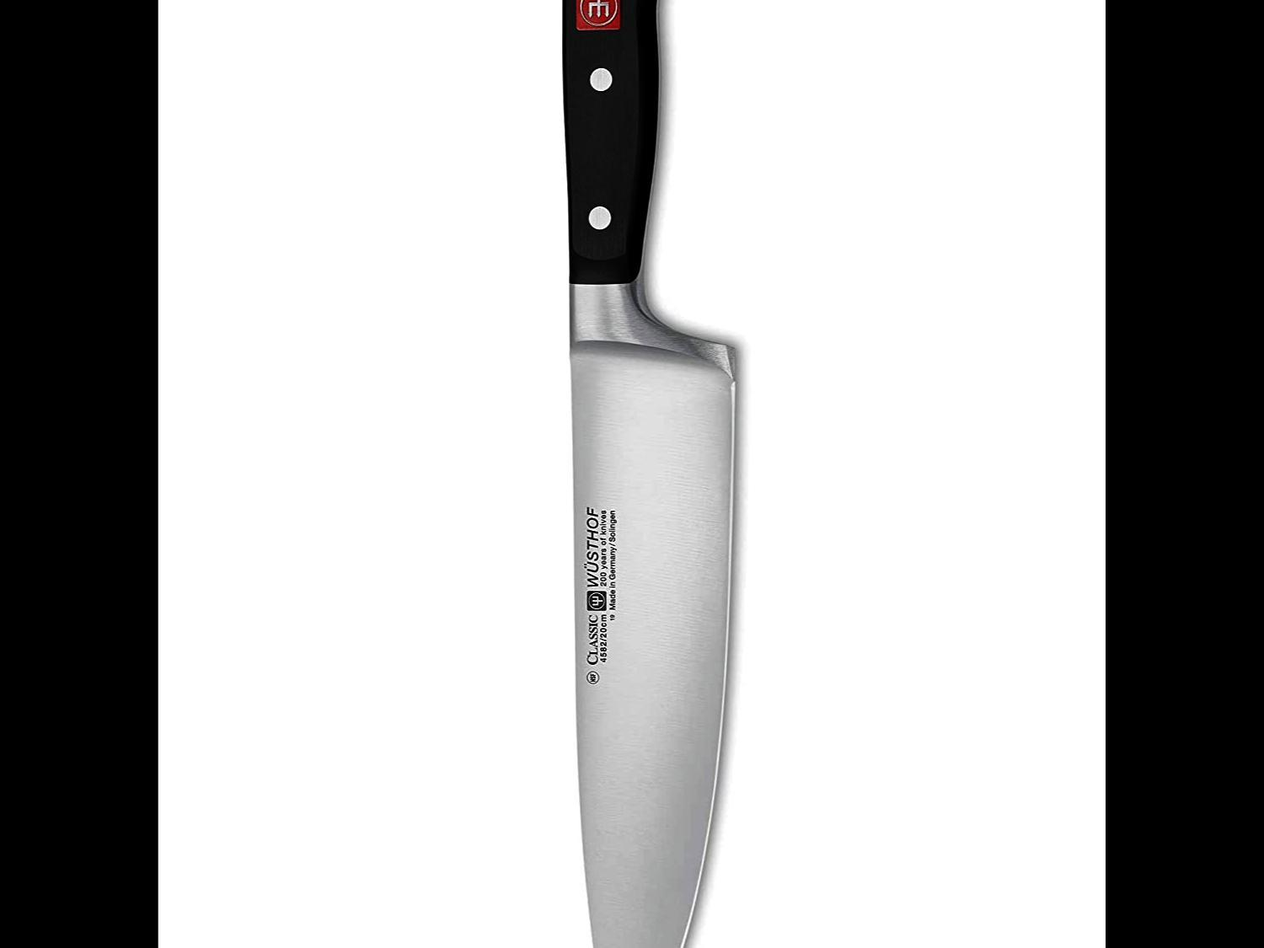melee: (555, 0, 742, 948)
